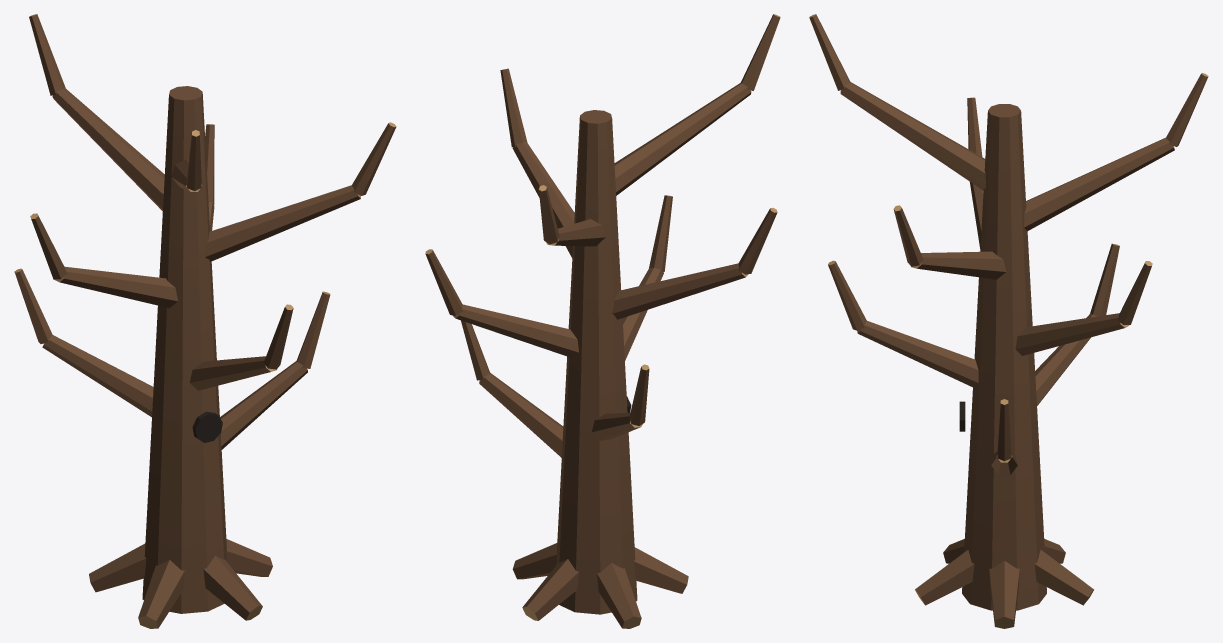
Rendered from tree_dead.glb.
The picture shows the model from 3 angles, left to right: view 1: azimuth 30°, elevation 25°; view 2: azimuth 150°, elevation 25°; view 3: azimuth 270°, elevation 25°; orthographic projection. The views are drawn at different scales.
Visible parts, largest first — view 1: tree_dead; view 2: tree_dead; view 3: tree_dead.
Part boxes in pixels (x1,y1,x2,y2): tree_dead: (14,14,396,628); tree_dead: (425,14,780,628); tree_dead: (809,14,1208,628).
Bounding box in the file's own units: 3.06 × 5.01 × 3.37.
